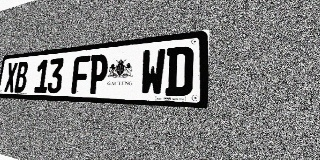1: (34, 59, 50, 93)
3: (47, 58, 64, 93)
B: (14, 61, 29, 93)
D: (165, 46, 194, 96)
F: (71, 55, 90, 94)
P: (88, 54, 109, 94)
W: (139, 48, 166, 96)
X: (4, 62, 18, 92)
